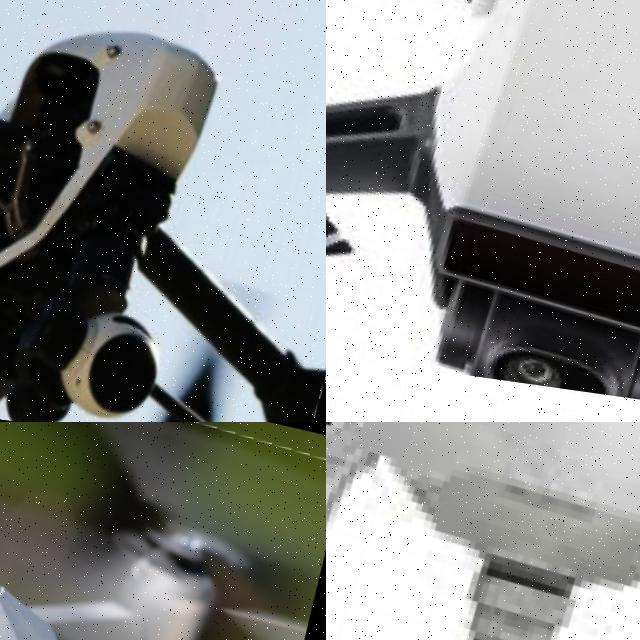drone: (0, 0, 326, 422), (326, 0, 640, 422), (0, 422, 326, 640), (326, 422, 640, 640)
